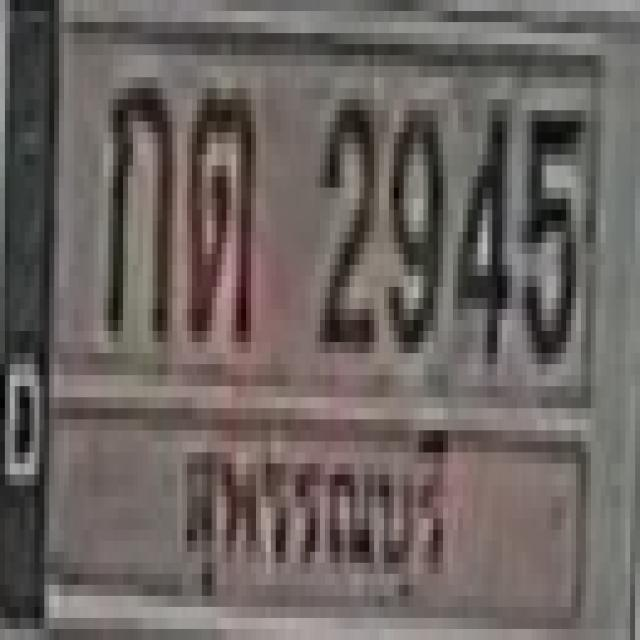2: (315, 88, 374, 342)
4: (453, 99, 507, 353)
5: (520, 99, 578, 353)
9: (384, 99, 438, 342)
A01: (104, 72, 168, 326)
A21: (184, 77, 253, 331)
SPB: (170, 394, 457, 623)
